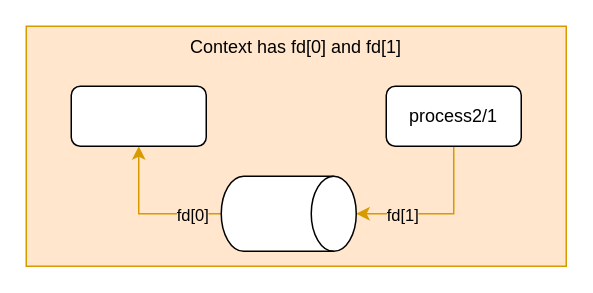
This 593x293 diagram has some shape labels left out. Here are the shapes that lost their labels. From the top down, the box of each, then its label:
(70, 85, 206, 146): process1/2
(220, 175, 356, 251): pipe
